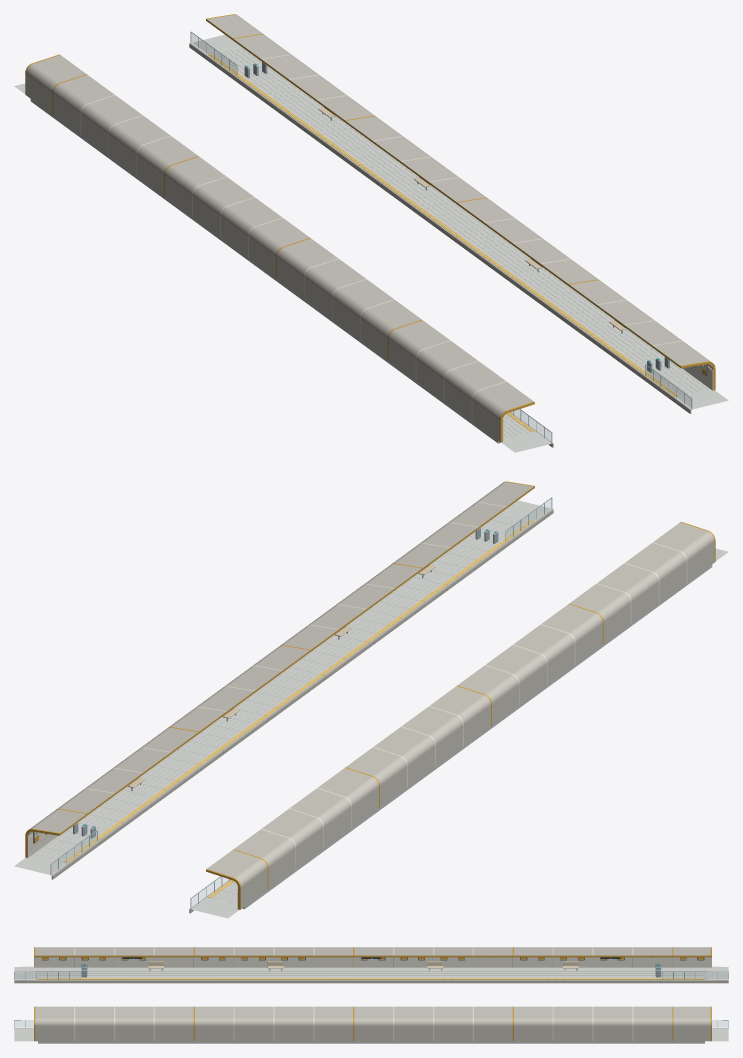
Rendered from station-A5.glb.
The picture shows the model from 3 angles, top to bottom: view 1: azimuth 30°, elevation 25°; view 2: azimuth 150°, elevation 25°; view 3: azimuth 270°, elevation 25°; orthographic projection. The views are drawn at different scales.
Visible parts, largest first — view 1: A5_platform_-1_roof, A5_platform_1_tile, A5_platform_1_roof, A5_platform_1_station_kerb, A5_platform_1_yellow, A5_platform_-1_concrete, A5_platform_-1_cladding, A5_platform_-1_tile, A5_platform_1_cladding, A5_platform_-1_accent; view 2: A5_platform_-1_roof, A5_platform_1_tile, A5_platform_1_roof, A5_platform_1_station_kerb, A5_platform_1_yellow, A5_platform_-1_concrete, A5_platform_-1_cladding, A5_platform_-1_tile, A5_platform_1_cladding, A5_platform_-1_accent; view 3: A5_platform_1_roof, A5_platform_-1_tile, A5_platform_-1_roof, A5_platform_-1_cladding, A5_platform_-1_station_kerb, A5_platform_1_concrete, A5_platform_-1_yellow, A5_platform_1_cladding, A5_platform_-1_accent, A5_platform_-1_sand, A5_platform_1_tile, A5_platform_-1_dark (+5 smaller).
Part boxes in pixels (x1=…): A5_platform_-1_roof: x1=26, y1=55, x2=533, y2=441; A5_platform_1_tile: x1=191, y1=34, x2=728, y2=409; A5_platform_1_roof: x1=206, y1=14, x2=712, y2=368; A5_platform_1_station_kerb: x1=189, y1=43, x2=691, y2=413; A5_platform_1_yellow: x1=208, y1=54, x2=705, y2=396; A5_platform_-1_concrete: x1=30, y1=99, x2=500, y2=443; A5_platform_-1_cladding: x1=80, y1=94, x2=506, y2=441; A5_platform_-1_tile: x1=14, y1=83, x2=551, y2=452; A5_platform_1_cladding: x1=261, y1=54, x2=713, y2=390; A5_platform_-1_accent: x1=25, y1=54, x2=534, y2=442; A5_platform_-1_roof: x1=207, y1=522, x2=714, y2=908; A5_platform_1_tile: x1=14, y1=500, x2=551, y2=875; A5_platform_1_roof: x1=28, y1=482, x2=533, y2=836; A5_platform_1_station_kerb: x1=51, y1=508, x2=553, y2=879; A5_platform_1_yellow: x1=35, y1=519, x2=534, y2=862; A5_platform_-1_concrete: x1=242, y1=565, x2=712, y2=909; A5_platform_-1_cladding: x1=237, y1=542, x2=687, y2=908; A5_platform_-1_tile: x1=191, y1=548, x2=728, y2=918; A5_platform_1_cladding: x1=27, y1=502, x2=506, y2=857; A5_platform_-1_accent: x1=206, y1=521, x2=715, y2=909; A5_platform_1_roof: x1=35, y1=1006, x2=710, y2=1041; A5_platform_-1_tile: x1=14, y1=966, x2=728, y2=979; A5_platform_-1_roof: x1=35, y1=947, x2=710, y2=966; A5_platform_-1_cladding: x1=34, y1=947, x2=711, y2=967; A5_platform_-1_station_kerb: x1=14, y1=979, x2=728, y2=983; A5_platform_1_concrete: x1=38, y1=1041, x2=704, y2=1043; A5_platform_-1_yellow: x1=38, y1=978, x2=704, y2=979; A5_platform_1_cladding: x1=74, y1=1006, x2=633, y2=1041; A5_platform_-1_accent: x1=34, y1=947, x2=711, y2=966; A5_platform_-1_sand: x1=148, y1=961, x2=578, y2=968; A5_platform_1_tile: x1=14, y1=1028, x2=728, y2=1041; A5_platform_-1_dark: x1=42, y1=957, x2=704, y2=960.
Bounding box in the file's own units: 22.2 × 3.57 × 89.65.
